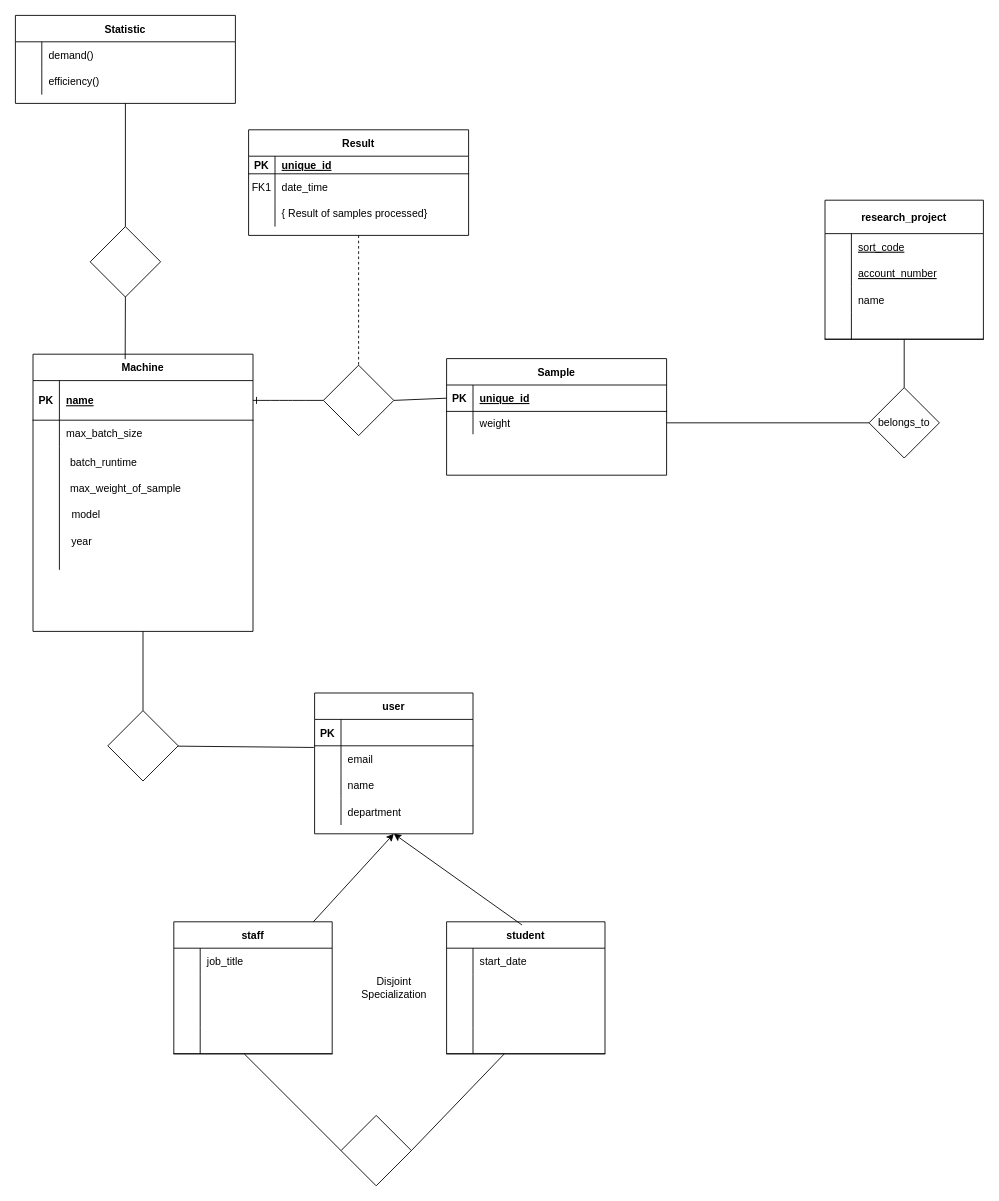
Some shapes in this 999 by 1201 pixel diagram are drawn without their labels. Each missing label, with the centre of its shape:
"analyzed (batched)" belongs at point (358, 400).
"computes" belongs at point (125, 261).
"Supervises" belongs at point (375, 1150).
"used_by" belongs at point (142, 745).
